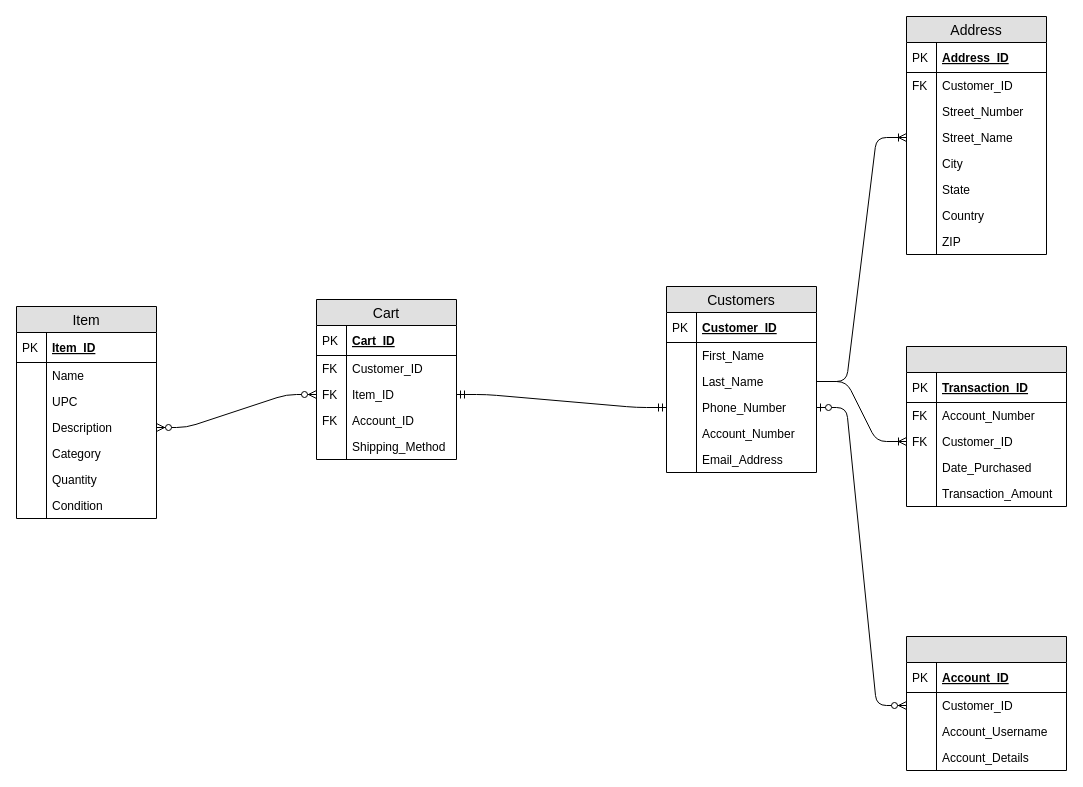
Image size: 1083x787. Some labels were removed from this diagram. Each missing label, with the box of its shape:
Accounts: (906, 636, 1066, 770)
Customer_Transactions: (906, 346, 1066, 506)
